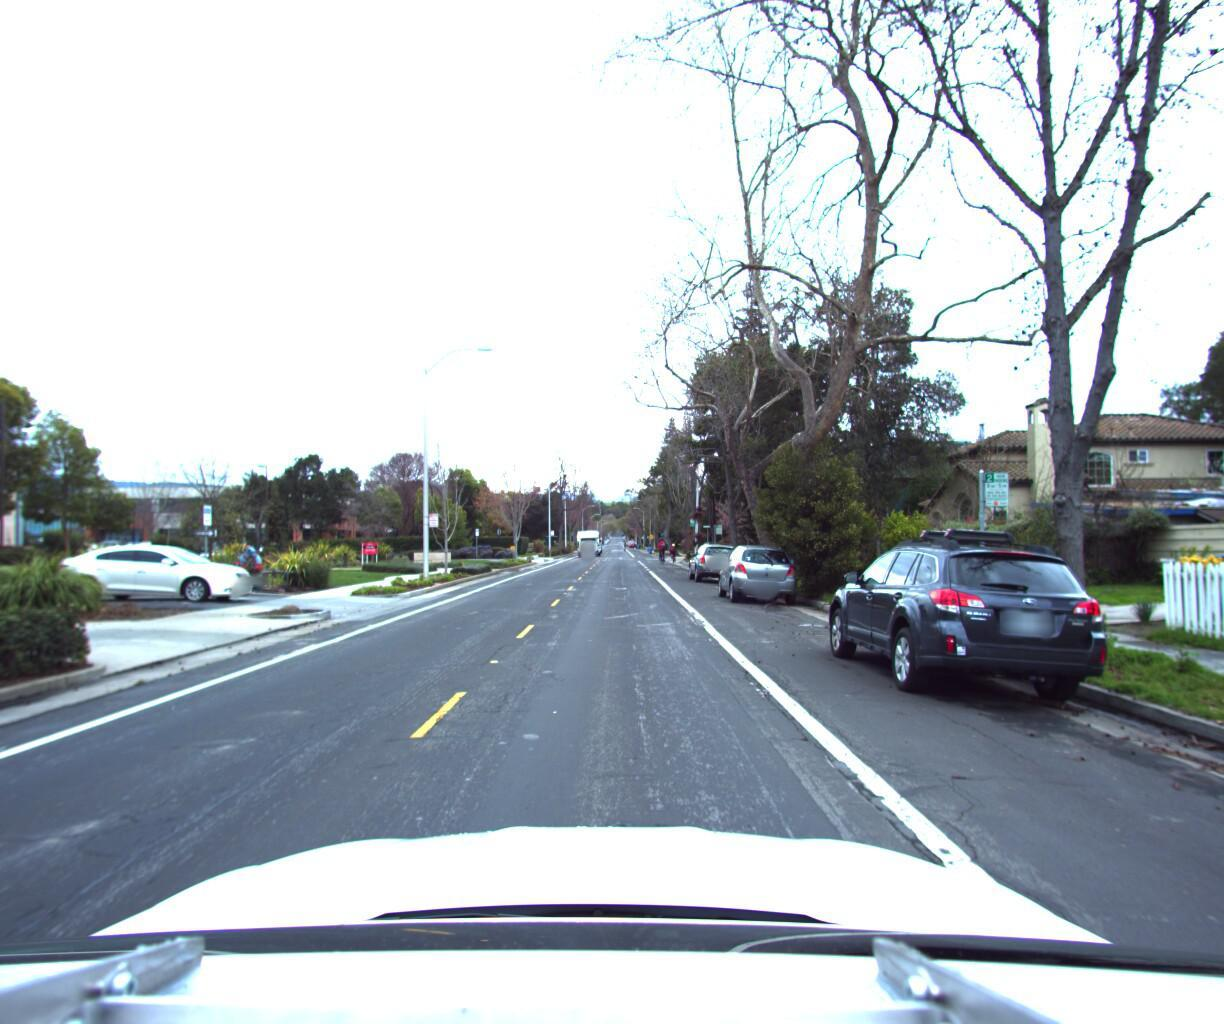bicycle: (654, 543, 670, 573), (665, 548, 679, 571)
bus: (575, 536, 603, 564)
car: (803, 525, 1144, 723), (52, 551, 269, 613), (713, 552, 796, 614), (686, 549, 744, 594)
